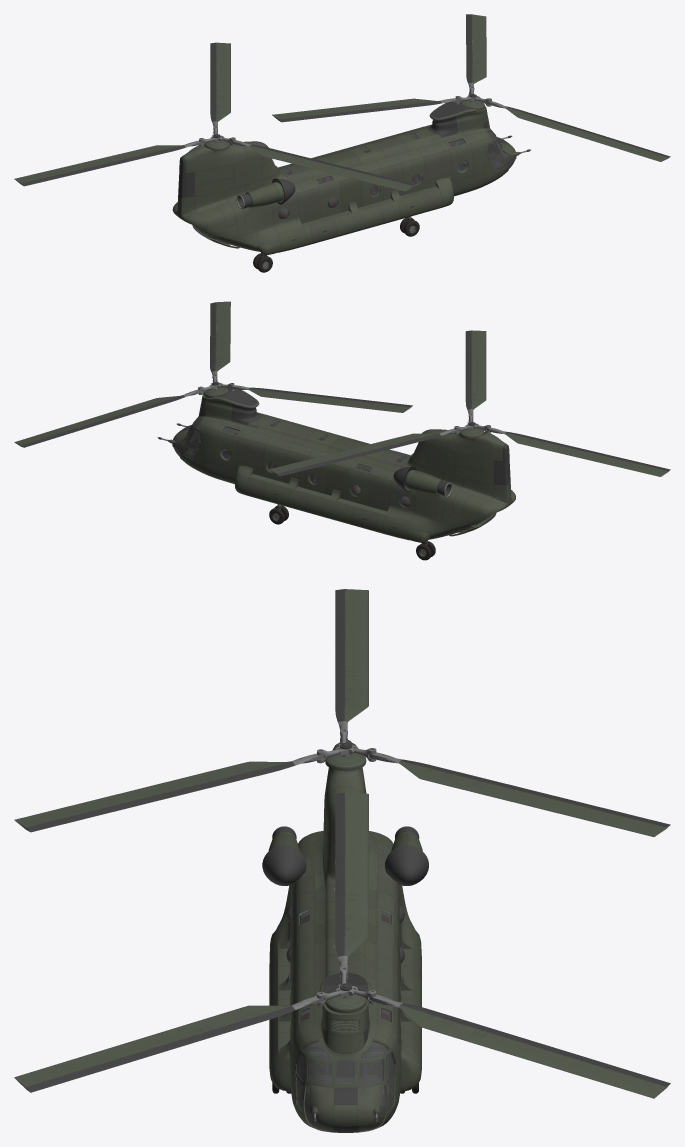
The picture shows the model from 3 angles, top to bottom: view 1: azimuth 30°, elevation 25°; view 2: azimuth 150°, elevation 25°; view 3: azimuth 270°, elevation 25°; orthographic projection. The views are drawn at different scales.
Parts seen in each view (by area): view 1: Retopo_Cube.013, Cylinder.004, Cylinder.009, Retopo_Cube.017, Plane.067; view 2: Retopo_Cube.013, Cylinder.004, Cylinder.009, Retopo_Cube.017, Plane.067; view 3: Retopo_Cube.013, Cylinder.009, Cylinder.004, Retopo_Cube.017, Plane.067.
Part boxes in pixels (x1=…): Retopo_Cube.013: x1=172, y1=102, x2=530, y2=255; Cylinder.004: x1=14, y1=42, x2=414, y2=191; Cylinder.009: x1=272, y1=14, x2=670, y2=161; Retopo_Cube.017: x1=278, y1=131, x2=515, y2=219; Plane.067: x1=283, y1=131, x2=511, y2=218; Retopo_Cube.013: x1=157, y1=389, x2=515, y2=542; Cylinder.004: x1=270, y1=330, x2=670, y2=476; Cylinder.009: x1=14, y1=301, x2=412, y2=447; Retopo_Cube.017: x1=173, y1=418, x2=410, y2=507; Plane.067: x1=177, y1=419, x2=405, y2=506; Retopo_Cube.013: x1=262, y1=740, x2=428, y2=1132; Cylinder.009: x1=14, y1=792, x2=670, y2=1098; Cylinder.004: x1=14, y1=589, x2=670, y2=836; Retopo_Cube.017: x1=286, y1=887, x2=404, y2=1131; Plane.067: x1=297, y1=910, x2=394, y2=1129.
Bounding box in the file's own units: 26.21 × 5.76 × 16.3.
Materials: 4 (3 with a texture image).
